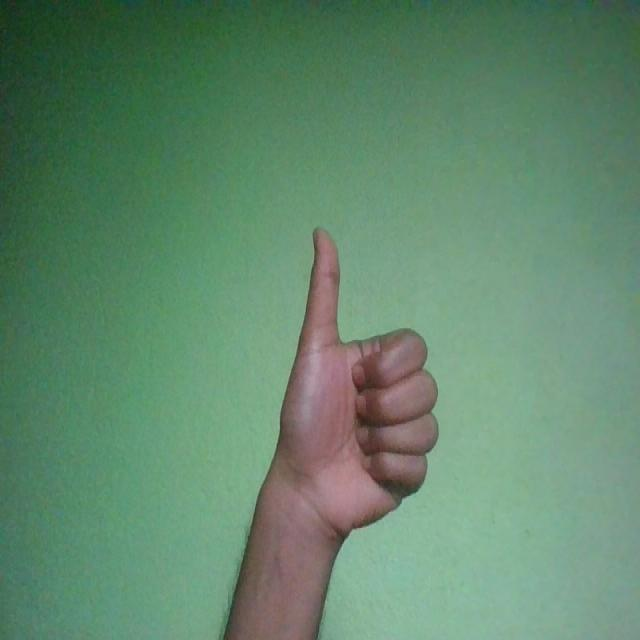Good Job: (280, 227, 440, 541)
